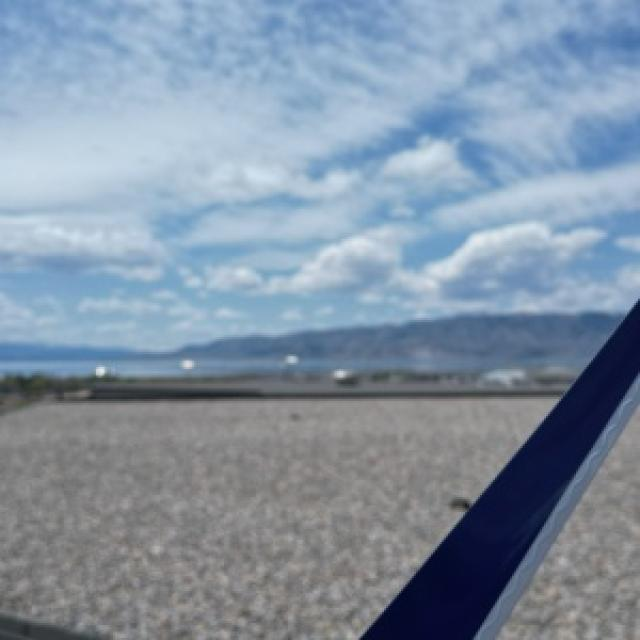healthy: (499, 434, 638, 638)
